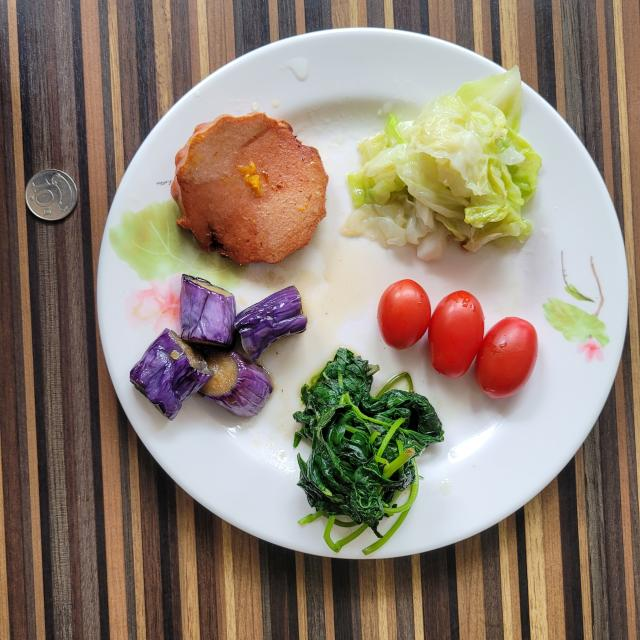Spam: (171, 112, 328, 264)
cabbage: (344, 66, 541, 260)
coin: (25, 169, 78, 220)
sweet potato leaves: (294, 348, 444, 555)
